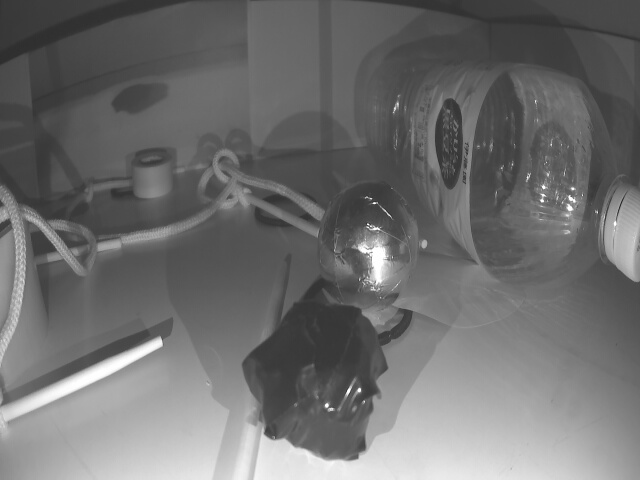Dead: (239, 303, 390, 460)
Live: (315, 180, 418, 307)
